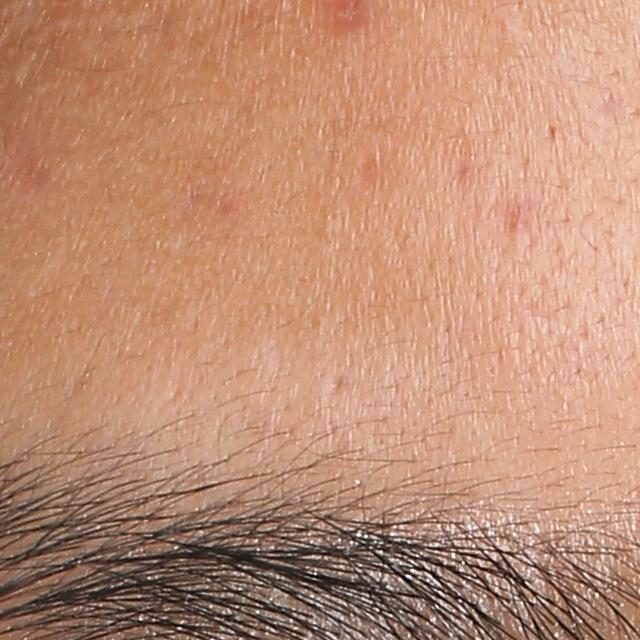atrophic_scar: (326, 374, 350, 400)
